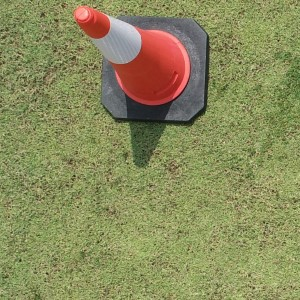traffic cone: (74, 6, 208, 122)
